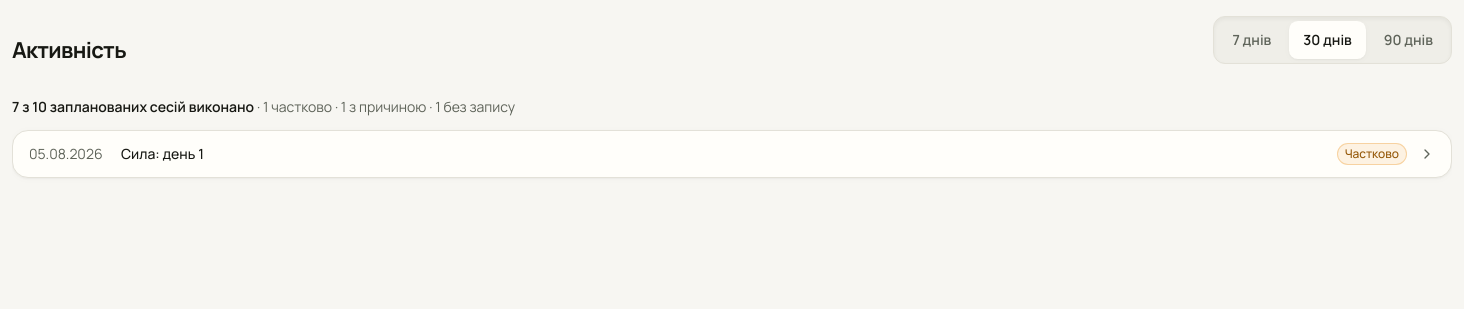
Test: ClientActivity › shows each session with its state, and expands to plan beside fact
The width and height of the screenshot is (1464, 309).
Check: the text "Частково" is shown, box [1337,143,1407,165]
Check: the text "Присідання" is not shown
Click the button "05.08.2026 Сила: день 1 Частково" at (66, 154), box [13,131,1451,177]
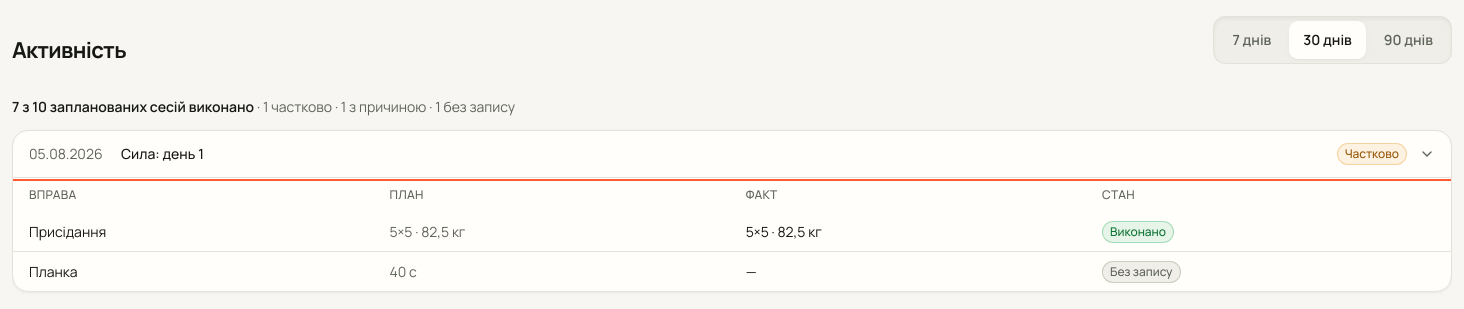
Check: the 1st cell "5×5 · 82,5 кг" is shown, box [373,212,730,252]
Check: the 2nd cell "5×5 · 82,5 кг" is shown, box [730,212,1086,252]
Check: the cell "Виконано" is shown, box [1086,212,1451,252]
